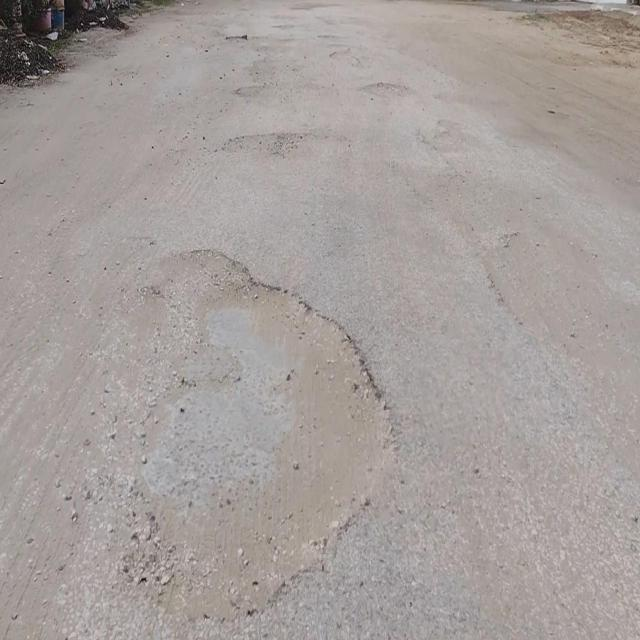Potholes: (117, 247, 397, 631)
